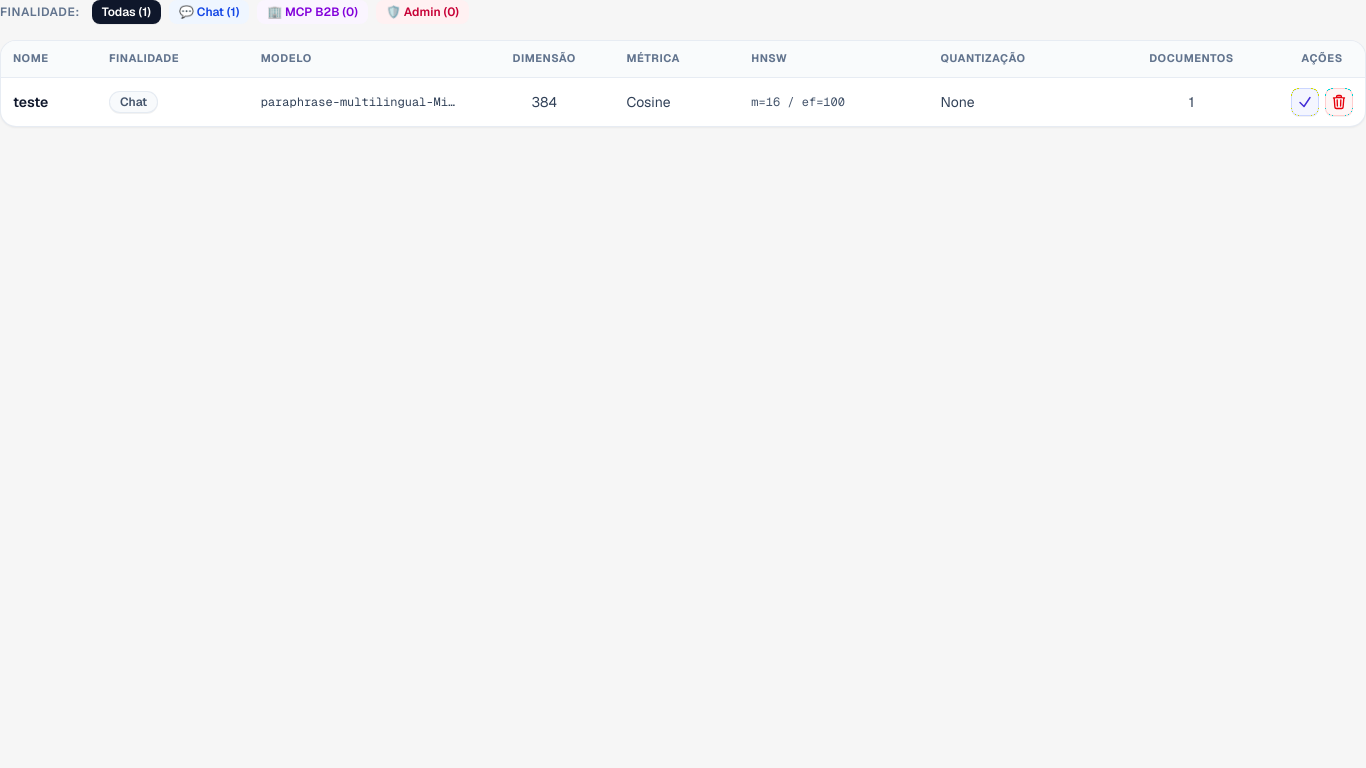
CollectionsTable › excluir uma collection inativa abre modal de confirmação com a contagem de documentos
Step 1. Click the button named "Excluir" → x=1339, y=102, box [1325, 88, 1353, 116]
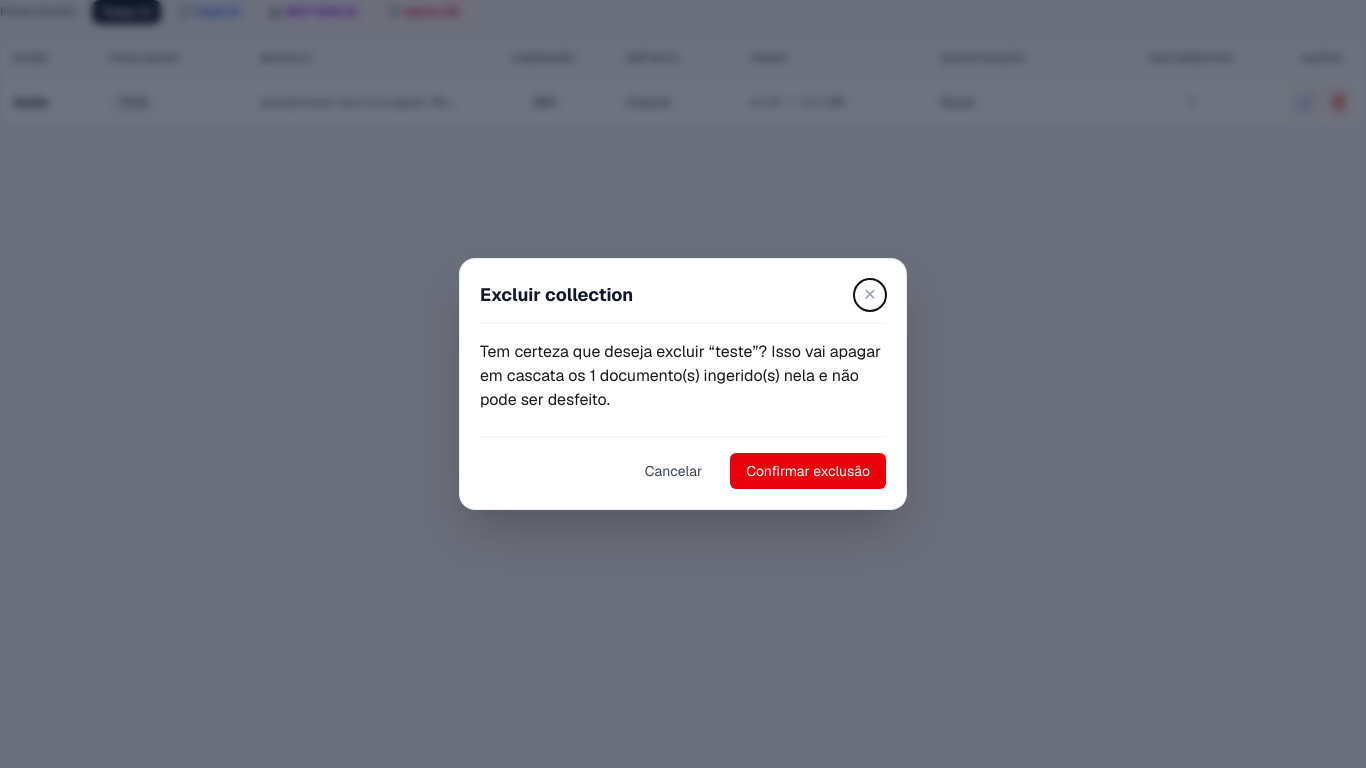
Expected: the text "1 documento(s)" is shown, [480, 340, 886, 412]
